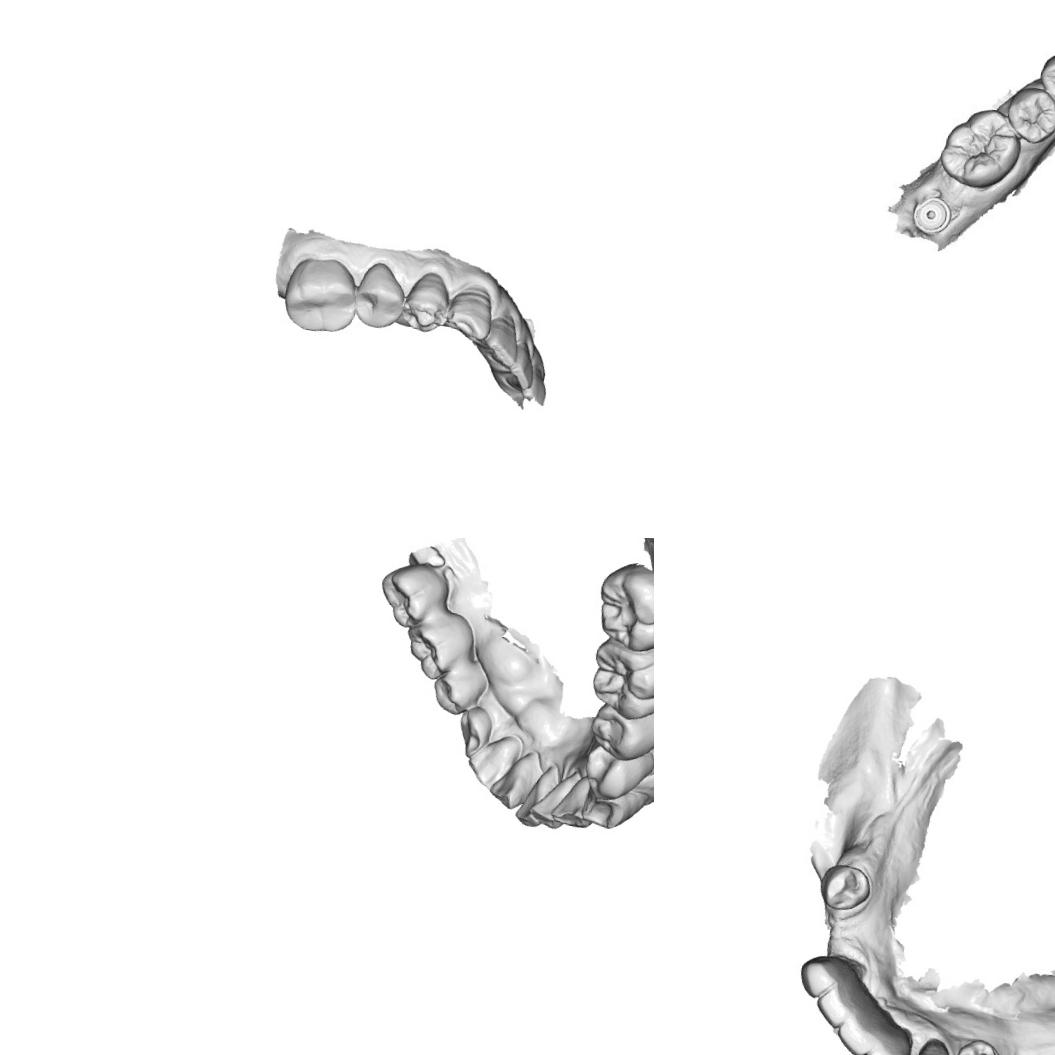canine: (462, 730, 522, 796), (580, 782, 650, 836), (444, 280, 498, 342), (907, 1034, 964, 1055)
implant: (908, 190, 958, 244)
incisor: (794, 948, 857, 1004), (810, 982, 867, 1034), (474, 310, 523, 370), (829, 1004, 883, 1055), (486, 758, 536, 812), (860, 1019, 915, 1055), (505, 339, 539, 394), (511, 784, 550, 830), (550, 794, 598, 830), (528, 794, 568, 832)
molar: (935, 101, 1024, 193), (585, 621, 654, 728), (278, 250, 362, 337), (590, 557, 654, 660), (400, 604, 480, 686), (374, 557, 453, 634)
premolar: (585, 681, 654, 770), (579, 740, 654, 807), (350, 258, 410, 332), (430, 655, 492, 719), (397, 267, 454, 336), (814, 858, 877, 916), (1009, 86, 1055, 145), (452, 703, 495, 761), (949, 1034, 1007, 1055), (1036, 50, 1055, 105)
